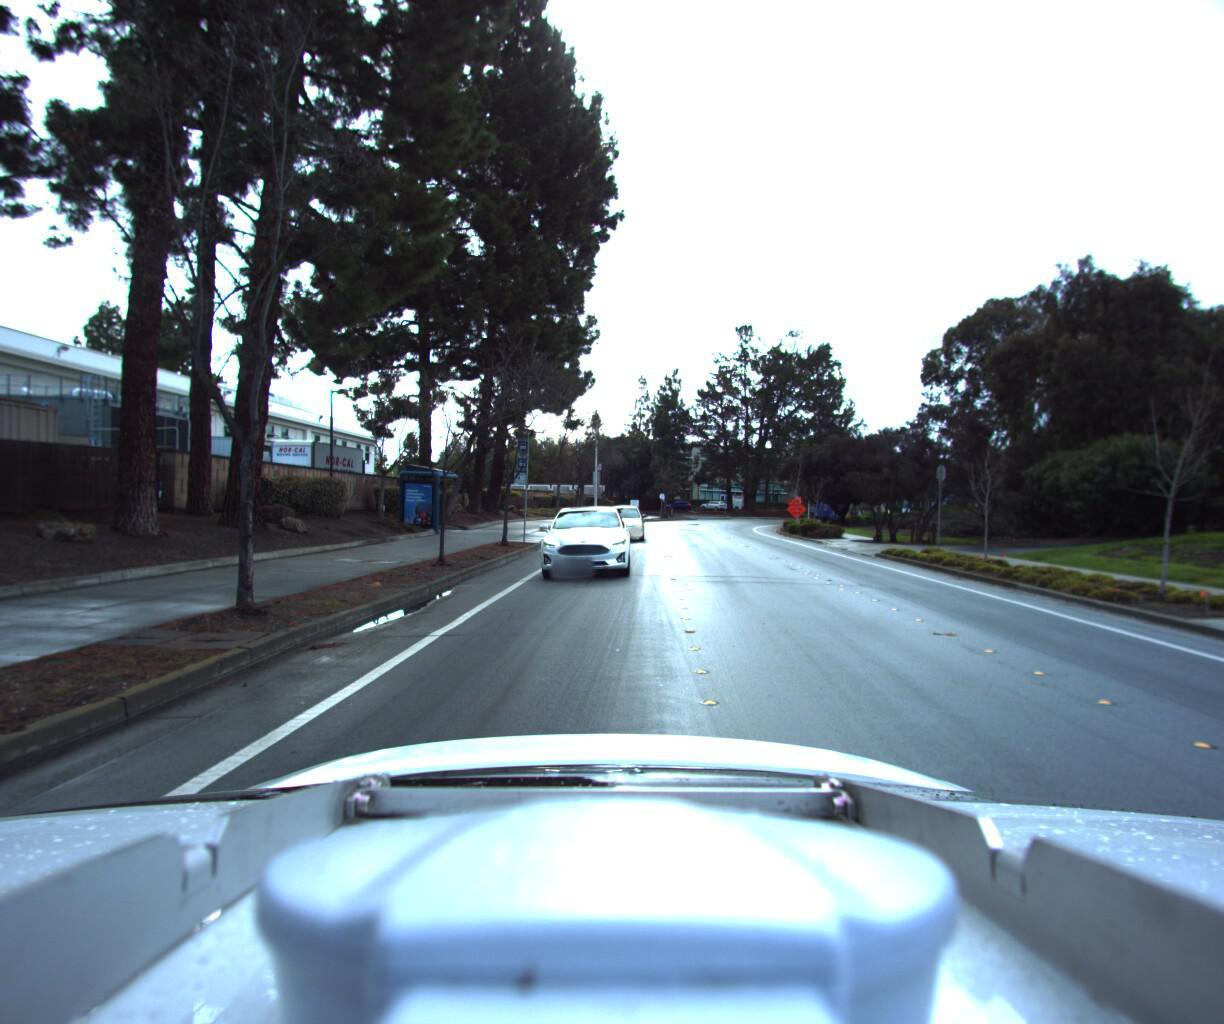car: (531, 503, 632, 582), (598, 504, 647, 544)
truck: (251, 434, 369, 507)
